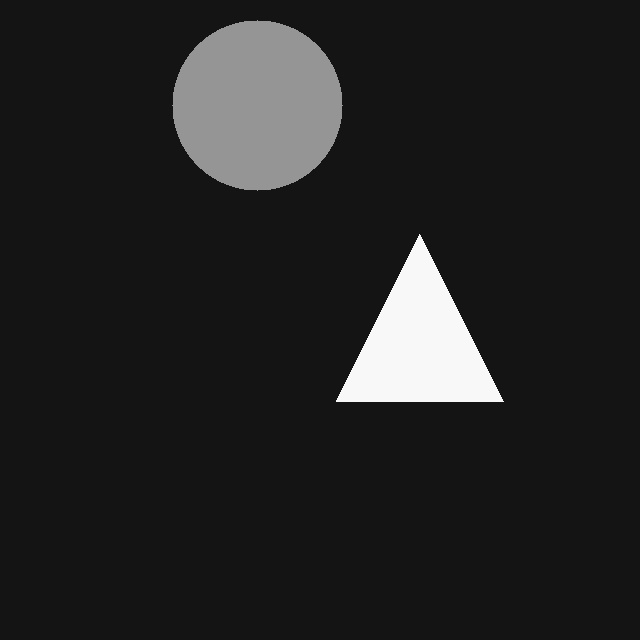circle: (172, 20, 342, 190)
triangle: (336, 234, 503, 401)
